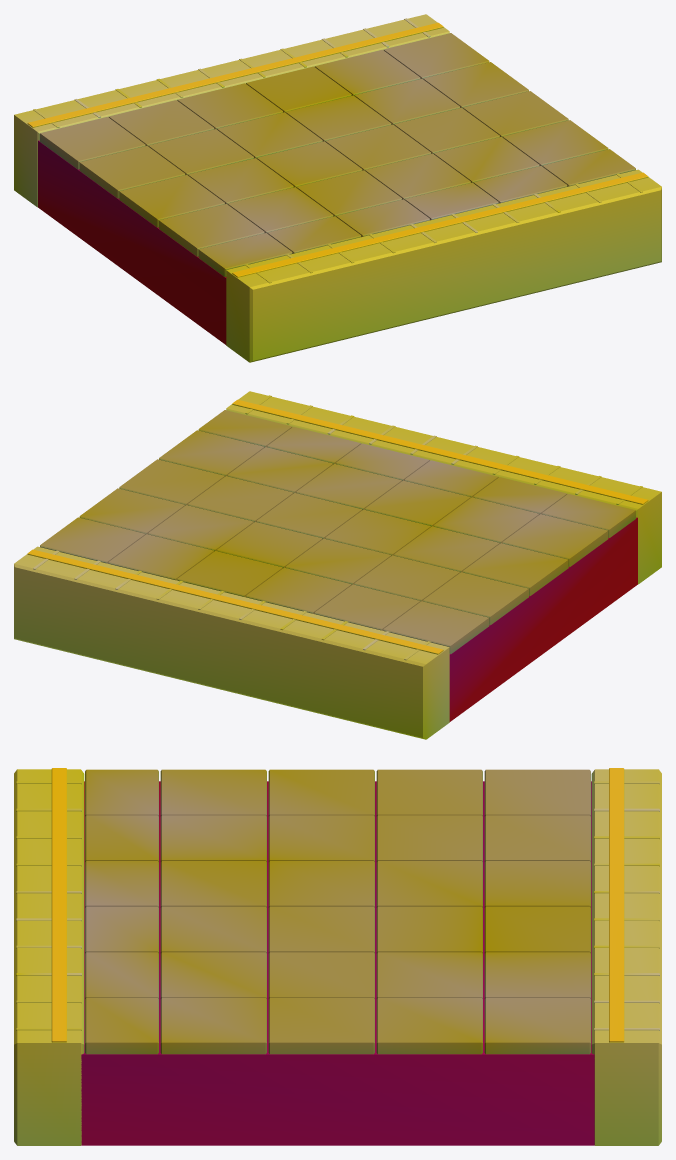
The model's file is GS_Platform_Island_6m.fbx.
3 renders of one model, top to bottom at view 1: azimuth 30°, elevation 25°; view 2: azimuth 150°, elevation 25°; view 3: azimuth 270°, elevation 25°, orthographic. The views are drawn at different scales.
Parts seen in each view (by area): view 1: GS_Platform_Island_6m; view 2: GS_Platform_Island_6m; view 3: GS_Platform_Island_6m.
Part boxes in pixels (x1=…): GS_Platform_Island_6m: x1=14, y1=14, x2=661, y2=362; GS_Platform_Island_6m: x1=14, y1=391, x2=661, y2=739; GS_Platform_Island_6m: x1=14, y1=768, x2=661, y2=1145.
Bounding box in the file's own units: 6 × 1.07 × 6.
